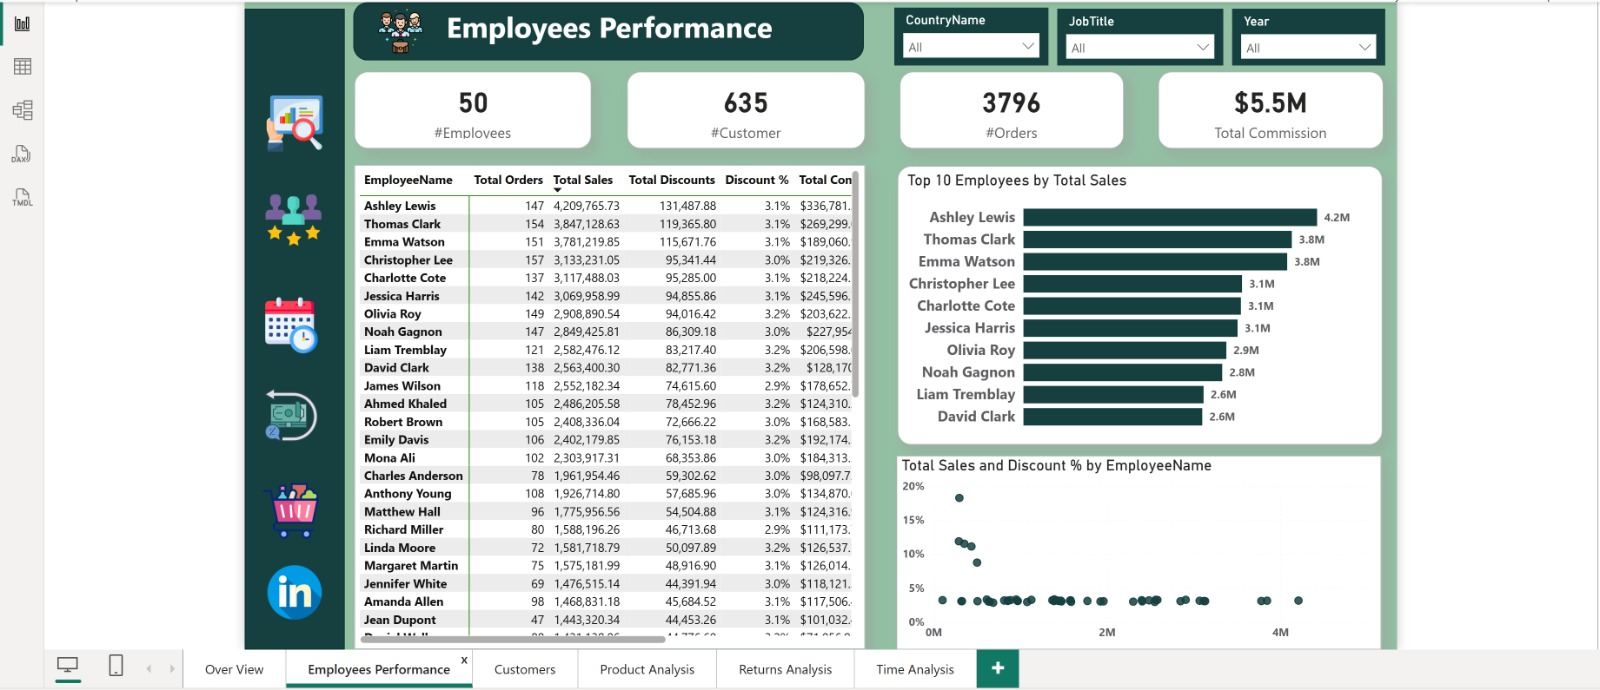

The page's visual inventory and layout, read from the dashboard file:
{"tool":"powerbi","page":{"name":" Employees Performance","canvas":[1280,720],"ordinal":1},"visuals":[{"type":"card","fields":{"Values":["Employees Calculation.#Employees"]},"box":[122.2,77.8,263.3,85.6],"z":0},{"type":"card","fields":{"Values":["Employees Calculation.Total Commission"]},"box":[1014.4,77.8,250,85.6],"z":1000},{"type":"card","fields":{"Values":["Calculation.#Orders"]},"box":[727,77.8,248.9,85.6],"z":2000},{"type":"card","fields":{"Values":["Calculation.#Customer"]},"box":[424.1,77.8,264.4,85.6],"z":3000},{"type":"shape","box":[0,7.2,111.1,712.7],"z":4000},{"type":"slicer","fields":{"Values":["Date TAble.Year"]},"box":[1096.7,6.7,170,63.3],"z":5000},{"type":"slicer","fields":{"Values":["Employees.JobTitle"]},"box":[902.7,6.7,184.4,63.3],"z":6000},{"type":"shape","box":[121.2,0,567,64.9],"z":7000},{"type":"slicer","fields":{"Values":["Customers.CountryName"]},"box":[721.9,6.3,171.2,64.5],"z":8000},{"type":"clusteredBarChart","title":"Top 10 Employees by Total Sales","fields":{"Category":["Employees.EmployeeName"],"Y":["Employees Calculation.Total Sales"]},"box":[725,181.7,538.3,310],"z":9000},{"type":"pivotTable","fields":{"Rows":["Employees.EmployeeName"],"Values":["Employees Calculation.Total Orders","Employees Calculation.Total Sales","Employees Calculation.Total Discounts","Employees Calculation.Discount %","Employees Calculation.Total Commission","Sum(Employees.Years of Experience)"]},"box":[121.4,181.4,567.1,538.6],"z":10000},{"type":"scatterChart","fields":{"Category":["Employees.EmployeeName"],"X":["Employees Calculation.Total Sales"],"Y":["Employees Calculation.Discount %"]},"box":[724.3,504.3,538.6,215.7],"z":11000},{"type":"textbox","box":[193.3,0,424.2,73.6],"z":12000},{"type":"image","box":[4.1,211.3,101.2,62.4],"z":13000},{"type":"image","box":[4.9,103.9,101.5,62.4],"z":14000},{"type":"image","box":[0,534.8,102.4,62.6],"z":15000},{"type":"image","box":[1.2,327.7,101.5,62.4],"z":16000},{"type":"image","box":[1.2,426.8,101.5,63.6],"z":17000},{"type":"image","box":[121.9,7.2,102.5,49.5],"z":18000},{"type":"image","box":[14.5,626.1,82,60.3],"z":19000}]}

Visuals, with their boxes on the page's 1280x720 design canvas (x1, y1, x2, y2). These are canvas units, not pixel positions in the 1600x690 screenshot, which may show the page scaled, cropped or inside an application window:
card - Employees Calculation.#Employees: x1=122 y1=78 x2=386 y2=163
card - Employees Calculation.Total Commission: x1=1014 y1=78 x2=1264 y2=163
card - Calculation.#Orders: x1=727 y1=78 x2=976 y2=163
card - Calculation.#Customer: x1=424 y1=78 x2=688 y2=163
shape: x1=0 y1=7 x2=111 y2=720
slicer - Date TAble.Year: x1=1097 y1=7 x2=1267 y2=70
slicer - Employees.JobTitle: x1=903 y1=7 x2=1087 y2=70
shape: x1=121 y1=0 x2=688 y2=65
slicer - Customers.CountryName: x1=722 y1=6 x2=893 y2=71
"Top 10 Employees by Total Sales" clusteredBarChart: x1=725 y1=182 x2=1263 y2=492
pivotTable - Employees.EmployeeName x Employees Calculation.Total Orders: x1=121 y1=181 x2=688 y2=720
scatterChart - Employees.EmployeeName x Employees Calculation.Total Sales: x1=724 y1=504 x2=1263 y2=720
textbox: x1=193 y1=0 x2=618 y2=74
image: x1=4 y1=211 x2=105 y2=274
image: x1=5 y1=104 x2=106 y2=166
image: x1=0 y1=535 x2=102 y2=597
image: x1=1 y1=328 x2=103 y2=390
image: x1=1 y1=427 x2=103 y2=490
image: x1=122 y1=7 x2=224 y2=57
image: x1=14 y1=626 x2=96 y2=686
